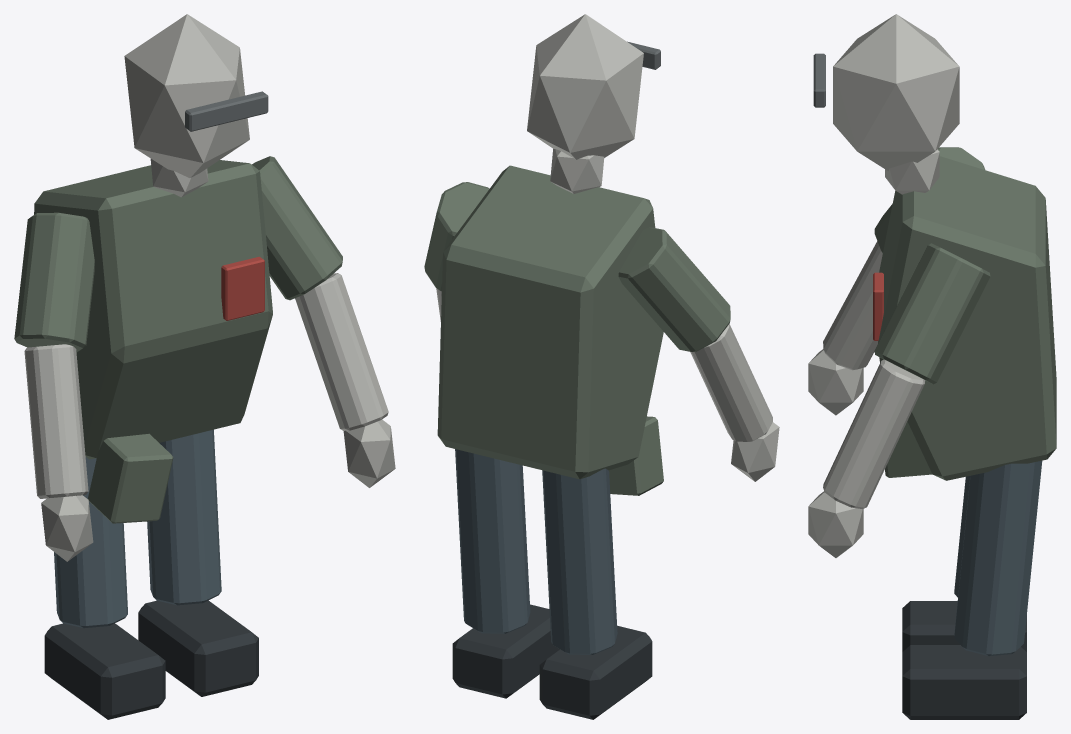
File: BH_Infected_Basic_Placeholder.glb
3 views of the same model, side by side, from view 1: azimuth 30°, elevation 25°; view 2: azimuth 150°, elevation 25°; view 3: azimuth 270°, elevation 25° (orthographic). The views are drawn at different scales.
Parts seen in each view (by area): view 1: BH_Infected_Basic_Placeholder_RenderMesh; view 2: BH_Infected_Basic_Placeholder_RenderMesh; view 3: BH_Infected_Basic_Placeholder_RenderMesh.
Boxes of the visible parts, <box> form: BH_Infected_Basic_Placeholder_RenderMesh: <box>14,14,395,719</box>; BH_Infected_Basic_Placeholder_RenderMesh: <box>424,14,779,719</box>; BH_Infected_Basic_Placeholder_RenderMesh: <box>808,14,1056,719</box>.
Bounding box in the file's own units: 0.9595 × 1.84 × 0.6173.
